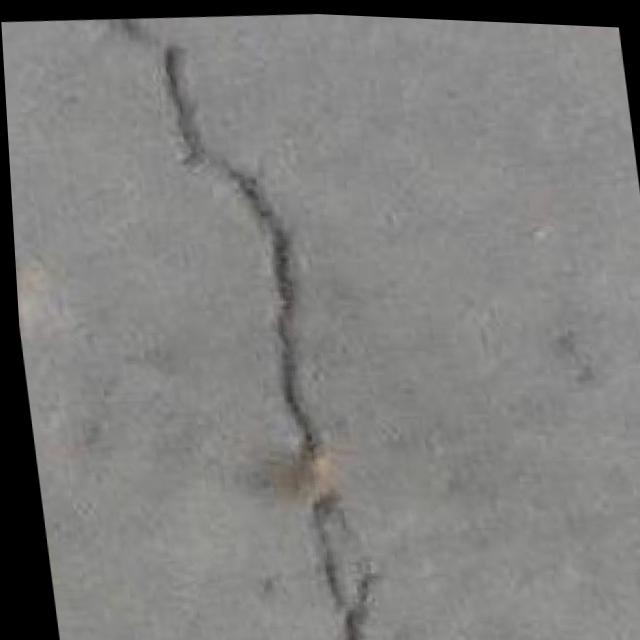Crack: (76, 3, 393, 640)
